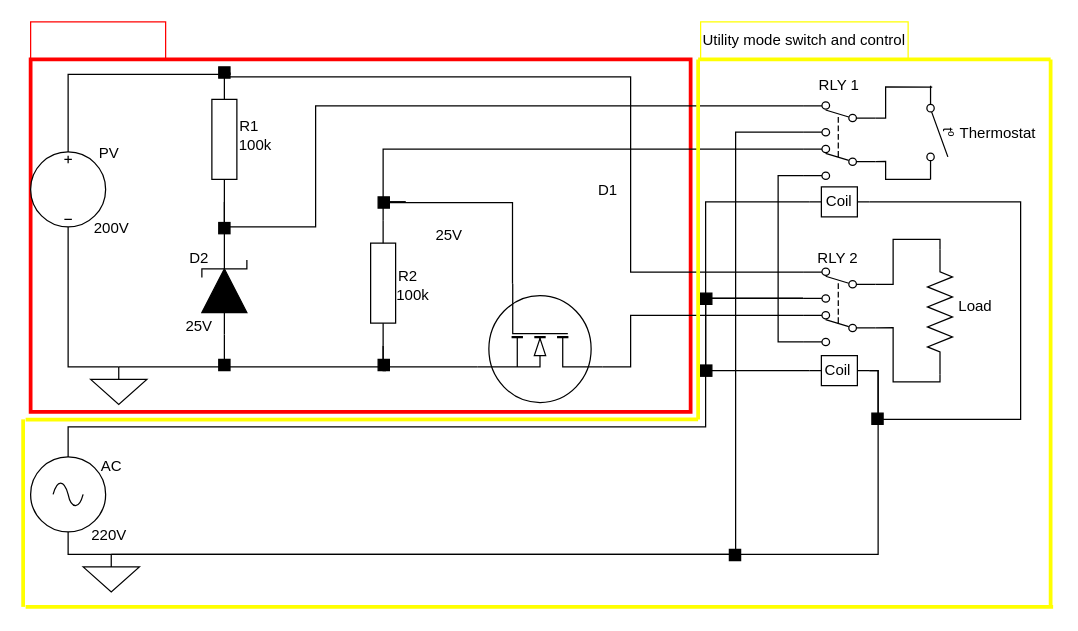
Some shapes in this 1078 by 631 pixel diagram are drawn without their labels. The shapes that lost their labels are listed below. From the top down, each one's centre as x and y in pixels, then its label:
the point at 97,40: PV input control
the point at 539,342: M1
